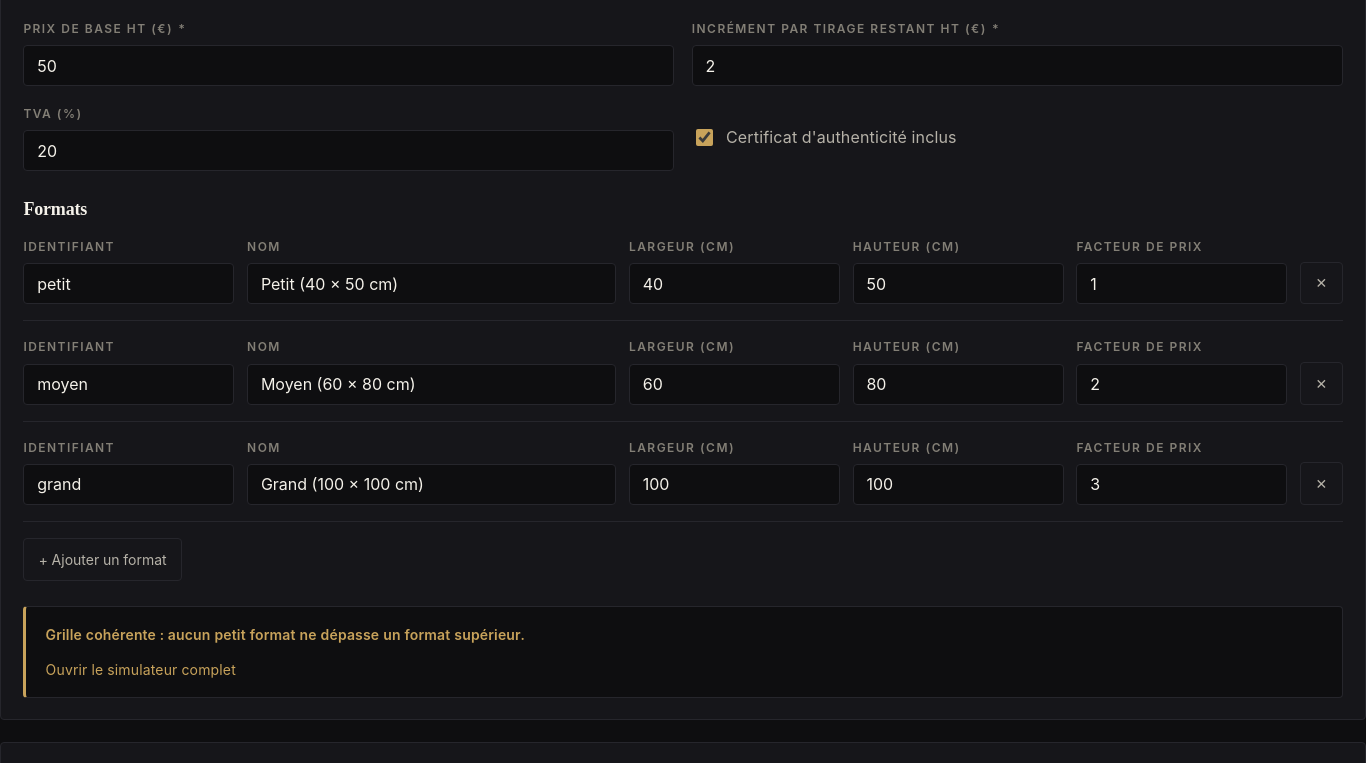
Test: admin artwork form (story 7.5a) › warns live when a small format would out-price a bigger one
The image size is (1366, 763).
(page scrolled)
// Bring the medium format down onto the small one's range.
Replace the text in the 2nd number field labelled "Facteur de prix" with "1.5" at (1182, 384), box [1076,364,1287,405]
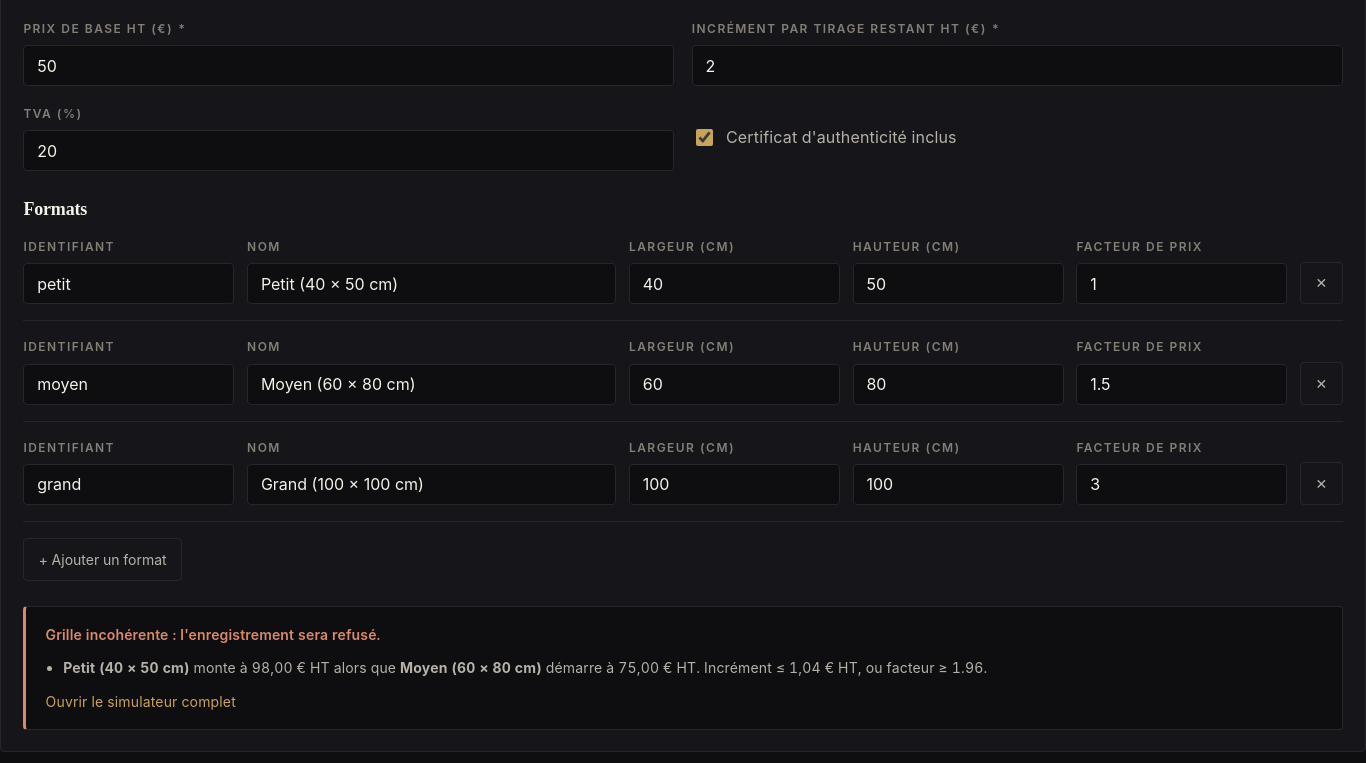
Result: the text "l'enregistrement sera refusé" is shown at [46,626,380,643]
Result: the text "Incrément ≤" is shown at [542,659,987,676]
